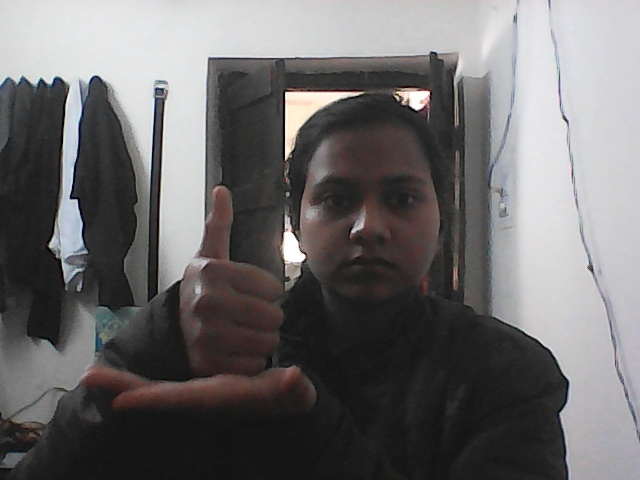Help: (68, 172, 347, 449)
